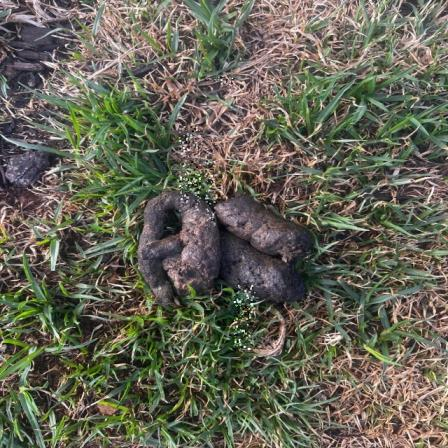dog-poop: (132, 179, 320, 316)
